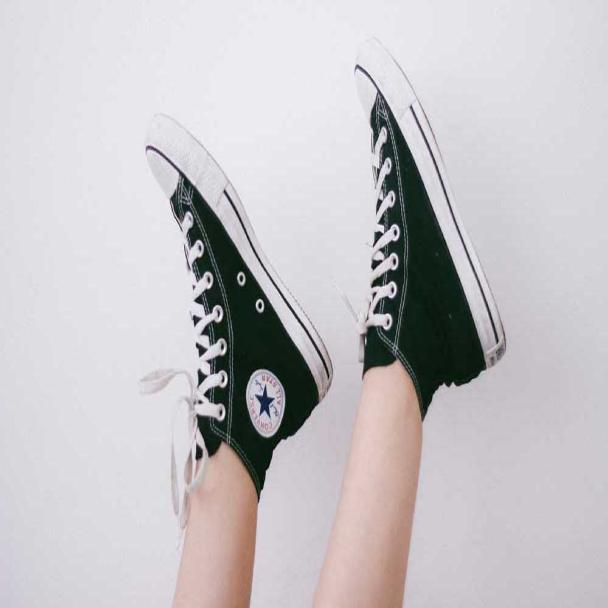Sepatu: (138, 107, 334, 502), (345, 28, 504, 425)
